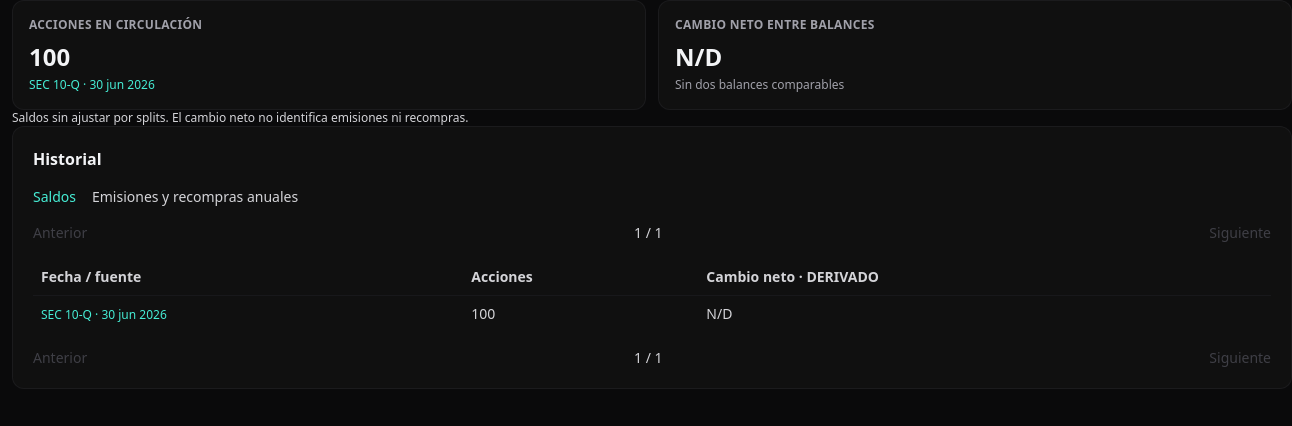
Test: ShareCapitalPanel › pestaña de emisiones y recompras: celdas sin dato salen N/D, con unidad si no son acciones
This screenshot has width=1292, height=426.
Click the button "Emisiones y recompras anuales".
click(195, 197)  # box top-left (92, 187), bottom-right (298, 207)
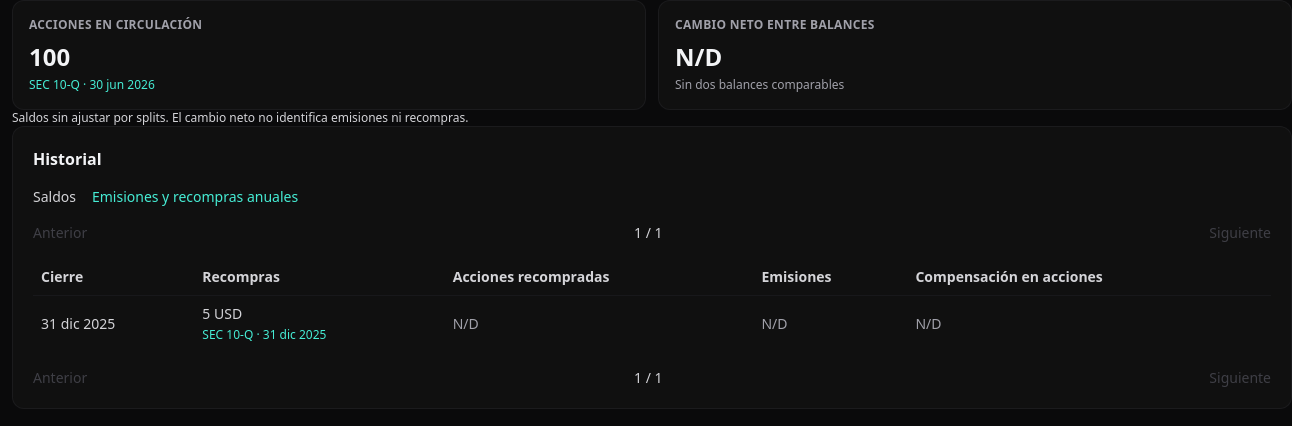
Now the text "5 USD" is shown, box top-left (202, 304), bottom-right (242, 323)
Now the text "N/D" is shown 3 times, box top-left (453, 314), bottom-right (479, 333); top-left (761, 314), bottom-right (788, 333); top-left (915, 314), bottom-right (942, 333)
